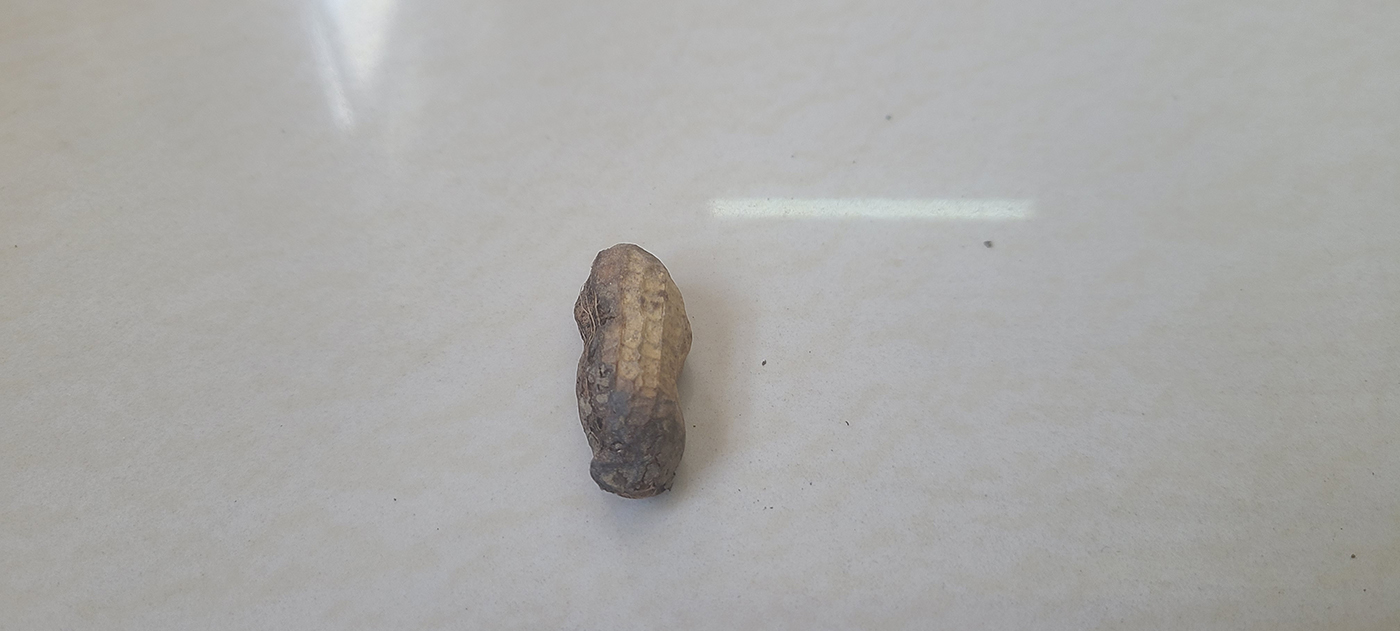l: (572, 242, 694, 497)
